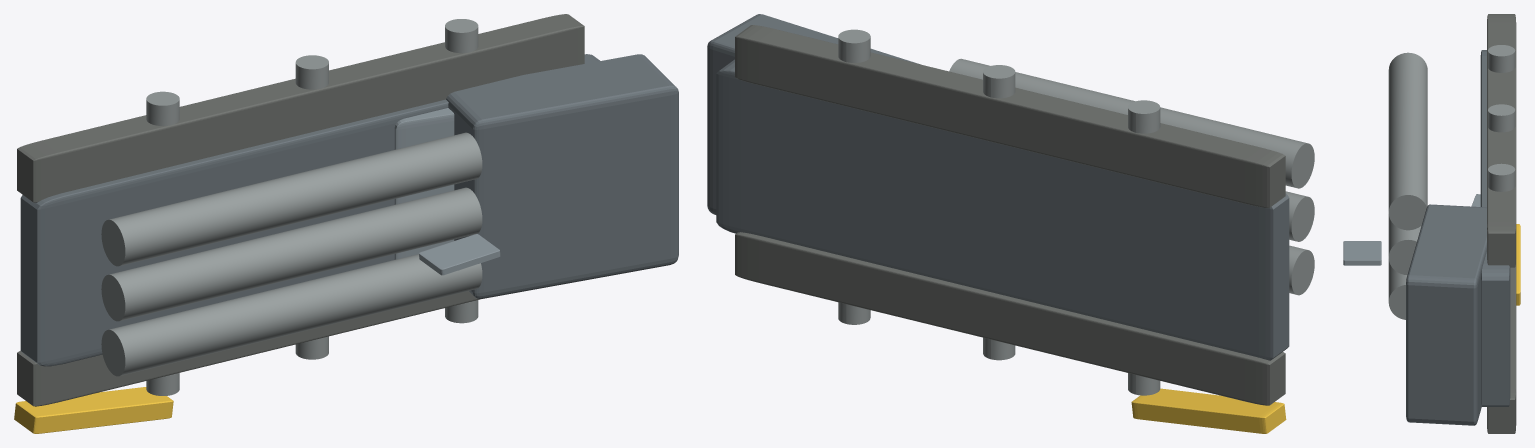
Rendered from s-x02-specter-cruise-lod2.glb.
The picture shows the model from 3 angles, left to right: view 1: azimuth 30°, elevation 25°; view 2: azimuth 150°, elevation 25°; view 3: azimuth 270°, elevation 25°; orthographic projection. The views are drawn at different scales.
Parts seen in each view (by area): view 1: strategic_cab, strategic_track_1, strategic_lower, cruise_canister_3, cruise_canister_5, cruise_canister_1, strategic_track_-1, strategic_jack_-1, strategic_glacis, cruise_radar_array, strategic_roadwheel_1_3, strategic_roadwheel_1_1 (+4 smaller); view 2: strategic_lower, strategic_track_1, strategic_track_-1, cruise_canister_5, strategic_jack_-1, strategic_cab, cruise_canister_3, cruise_canister_1, strategic_roadwheel_1_1, strategic_roadwheel_1_3, strategic_roadwheel_1_5, strategic_roadwheel_-1_3 (+2 smaller); view 3: strategic_cab, cruise_canister_5, strategic_track_1, strategic_lower, strategic_track_-1, cruise_canister_3, cruise_radar_array, cruise_canister_1, strategic_roadwheel_1_3, strategic_roadwheel_1_5, strategic_roadwheel_1_1, strategic_jack_-1.
Part boxes in pixels (box(x1,y1,x2,y2)): strategic_cab: box(446, 54, 678, 298); strategic_track_1: box(17, 14, 584, 202); strategic_lower: box(20, 54, 599, 366); cruise_canister_3: box(101, 187, 482, 321); cruise_canister_5: box(101, 132, 482, 266); cruise_canister_1: box(101, 254, 482, 376); strategic_track_-1: box(17, 291, 480, 406); strategic_jack_-1: box(14, 387, 173, 433); strategic_glacis: box(394, 108, 454, 259); cruise_radar_array: box(419, 234, 500, 275); strategic_roadwheel_1_3: box(295, 55, 328, 89); strategic_roadwheel_1_1: box(146, 91, 179, 125); strategic_lower: box(716, 59, 1289, 360); strategic_track_1: box(735, 25, 1285, 207); strategic_track_-1: box(735, 232, 1285, 405); cruise_canister_5: box(949, 58, 1314, 188); strategic_jack_-1: box(1131, 388, 1286, 433); strategic_cab: box(707, 14, 919, 214); cruise_canister_3: box(1285, 191, 1314, 241); cruise_canister_1: box(1289, 245, 1314, 295); strategic_roadwheel_1_1: box(1128, 100, 1160, 133); strategic_roadwheel_1_3: box(983, 65, 1015, 98); strategic_roadwheel_1_5: box(838, 29, 870, 62); strategic_roadwheel_-1_3: box(983, 337, 1015, 360); strategic_cab: box(1406, 204, 1486, 425); cruise_canister_5: box(1388, 52, 1427, 230); strategic_track_1: box(1487, 14, 1516, 267); strategic_lower: box(1480, 50, 1510, 406); strategic_track_-1: box(1487, 259, 1516, 433); cruise_canister_3: box(1388, 214, 1421, 274); cruise_radar_array: box(1343, 241, 1381, 265); cruise_canister_1: box(1388, 259, 1407, 319); strategic_roadwheel_1_3: box(1488, 104, 1515, 132); strategic_roadwheel_1_5: box(1488, 163, 1515, 191); strategic_roadwheel_1_1: box(1488, 45, 1515, 72); strategic_jack_-1: box(1516, 224, 1520, 305).
Size of what is drawn, in the model's own units: 10.01 by 4.94 by 3.11.
